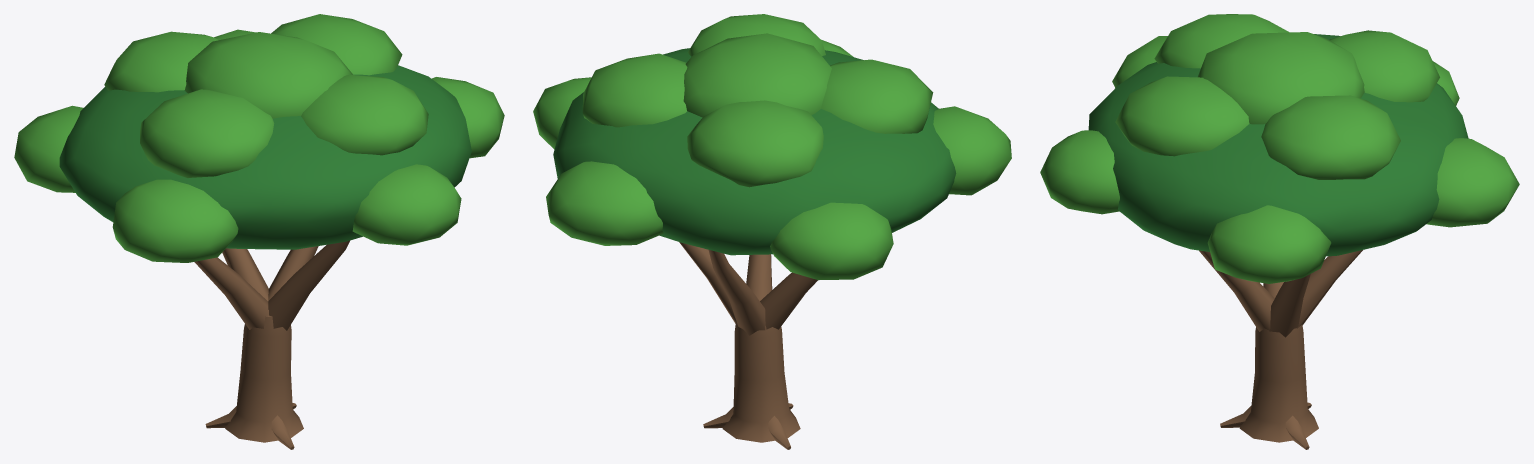
The model's file is prop_raintree.glb.
3 views of the same model, side by side, from view 1: azimuth 30°, elevation 25°; view 2: azimuth 150°, elevation 25°; view 3: azimuth 270°, elevation 25° (orthographic).
Parts seen in each view (by area): view 1: prop_raintree; view 2: prop_raintree; view 3: prop_raintree.
Boxes of the visible parts, x1,y1,x2,y2 form: prop_raintree: (14,14,504,449); prop_raintree: (533,14,1011,449); prop_raintree: (1040,14,1519,449).
Size of the model in its own units: 10.38 by 9.06 by 10.21.
